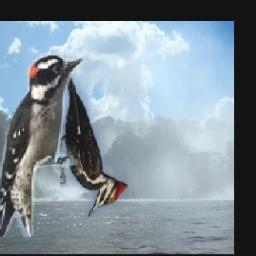Woodpecker: (0, 53, 84, 237), (60, 51, 128, 217)
